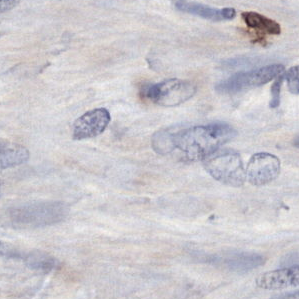Lymphocyte: (243, 11, 282, 42)
